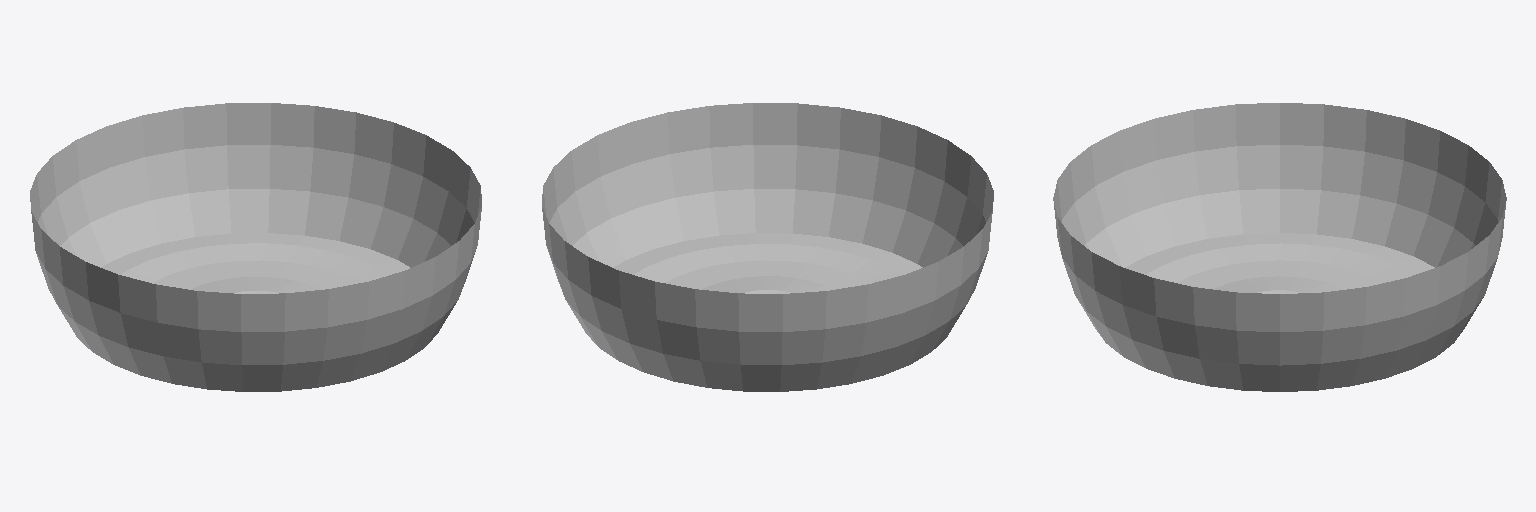
The model's file is new-bowl.obj.
3 views of the same model, side by side, from view 1: azimuth 30°, elevation 25°; view 2: azimuth 150°, elevation 25°; view 3: azimuth 270°, elevation 25° (orthographic).
Parts seen in each view (by area): view 1: Sphere; view 2: Sphere; view 3: Sphere.
Boxes of the visible parts, box(x1,y1,x2,y2) form: Sphere: box(30, 103, 481, 391); Sphere: box(542, 103, 993, 391); Sphere: box(1053, 103, 1506, 391).
Bounding box in the file's own units: 2 × 0.5606 × 2.